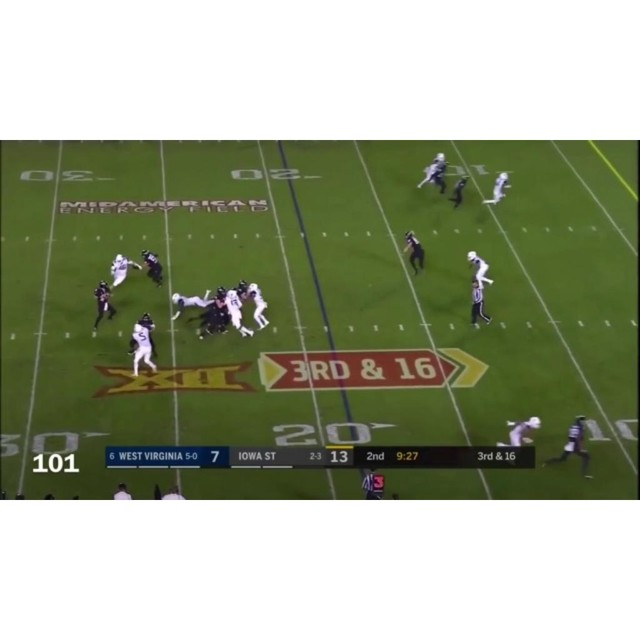american-football-player: (543, 414, 595, 478), (129, 315, 158, 378), (197, 288, 231, 341), (224, 284, 254, 337), (91, 279, 117, 336), (170, 290, 212, 322), (417, 153, 448, 193), (504, 416, 542, 447), (246, 282, 270, 330), (402, 230, 426, 277), (480, 171, 512, 206), (466, 250, 495, 288), (110, 253, 141, 288), (138, 249, 165, 289)
referee: (469, 278, 492, 329), (450, 176, 469, 210)
